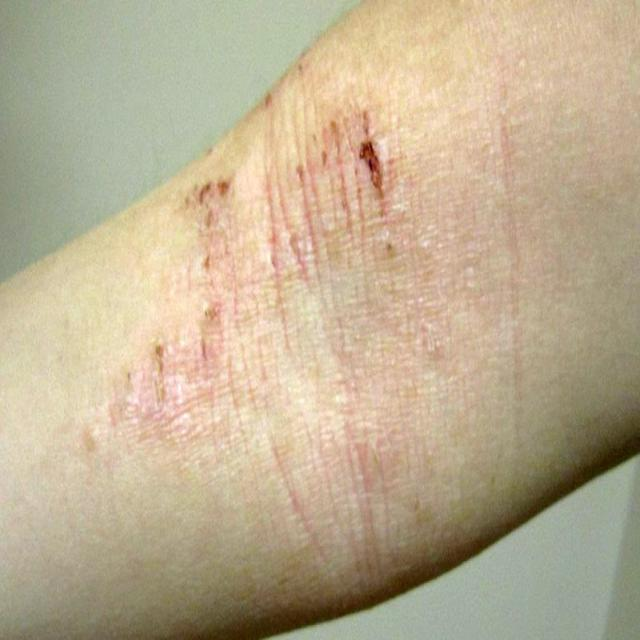eczema: (128, 76, 386, 445)
